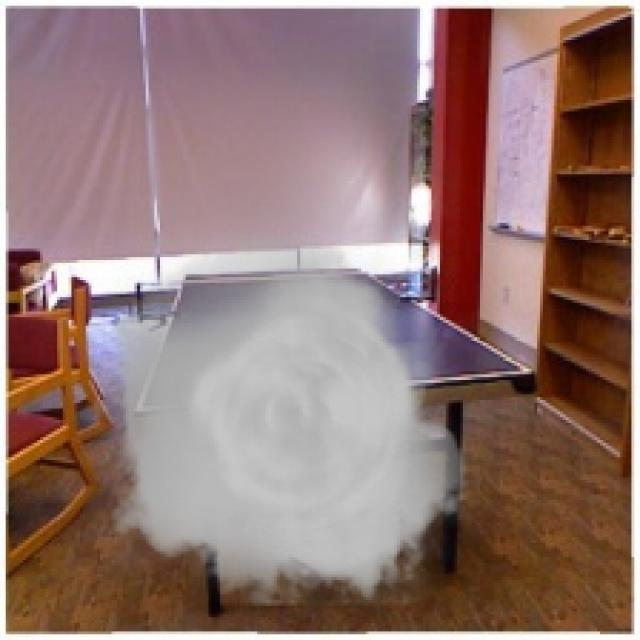Smoke: (94, 234, 480, 606)
